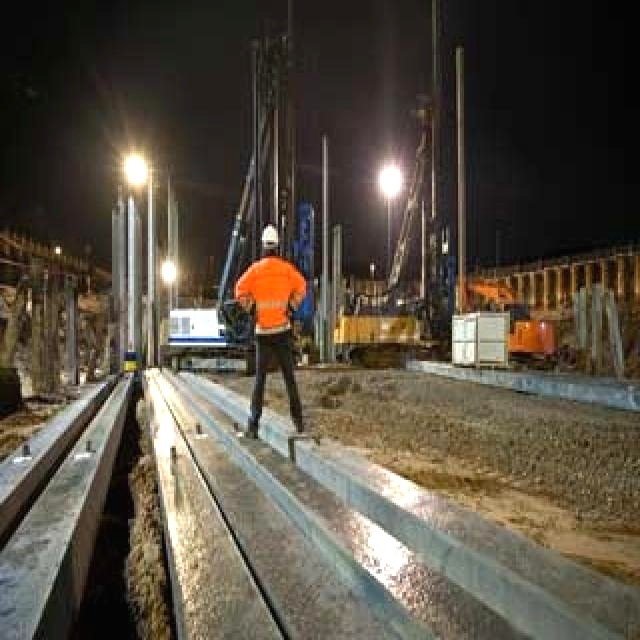Con_Chaleco: (248, 260, 292, 332)
